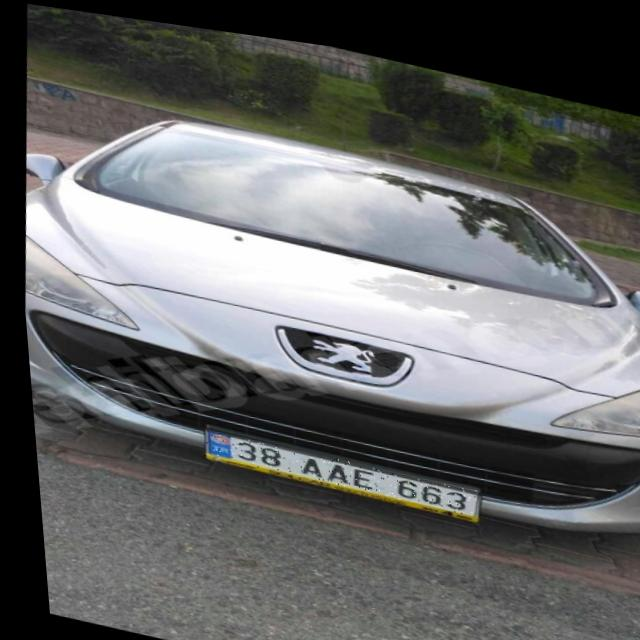license_plate: (196, 423, 472, 504)
